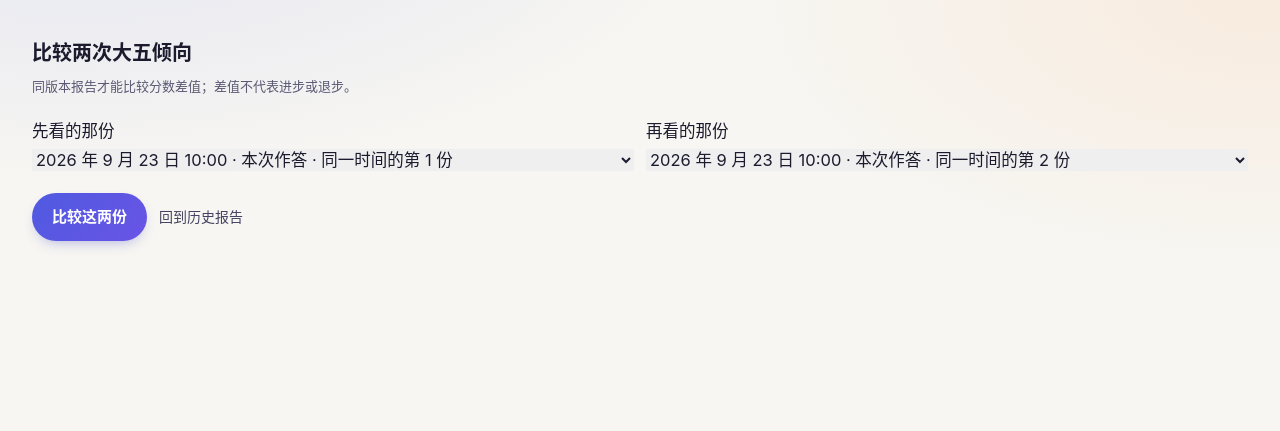
大五复测比较 › 计分版本不同即使原始分都存在也不提供差值
What coordinates should you click on to do the following:
click the button "比较这两份"
I would click on:
 (90, 216)
Its box is [32,192,147,240].
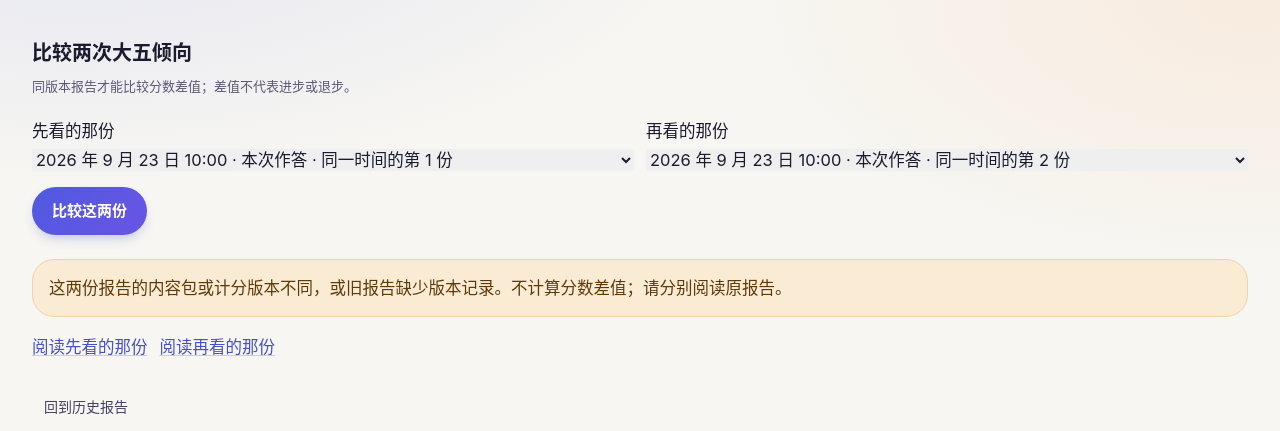
Expected: the text "不计算分数差值" is shown, [49,278,792,298]
